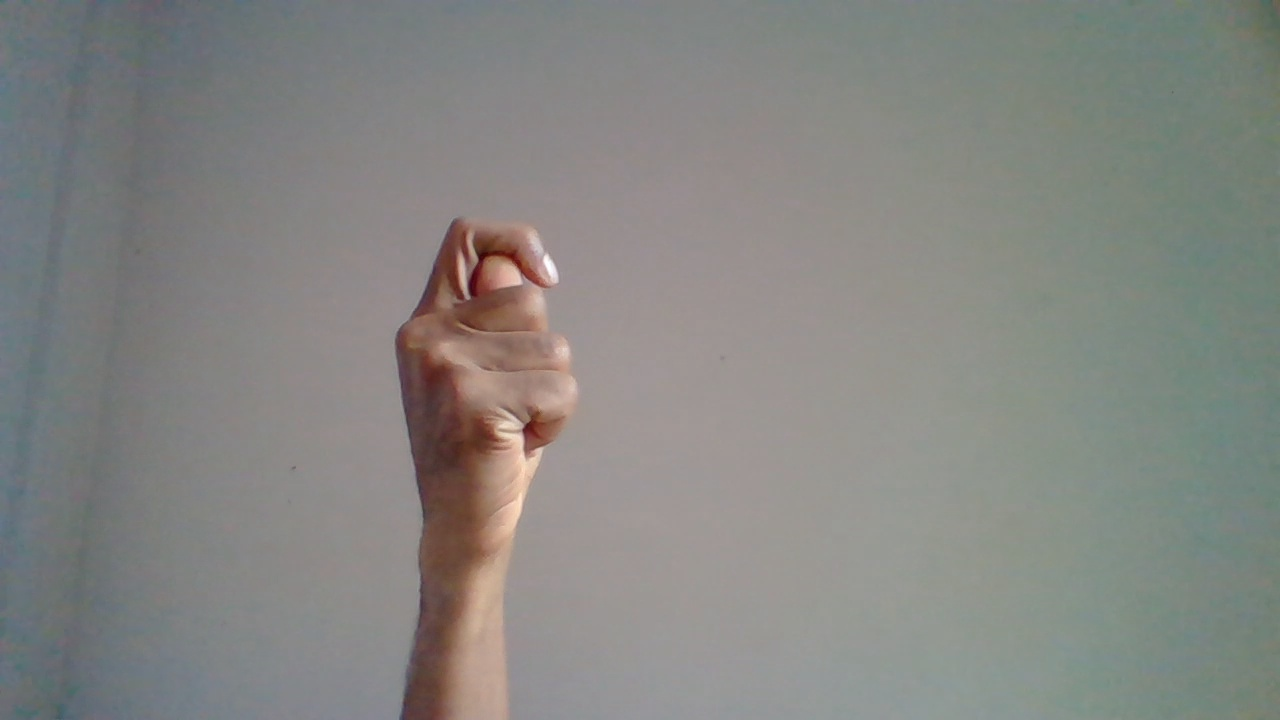che: (387, 220, 584, 686)
